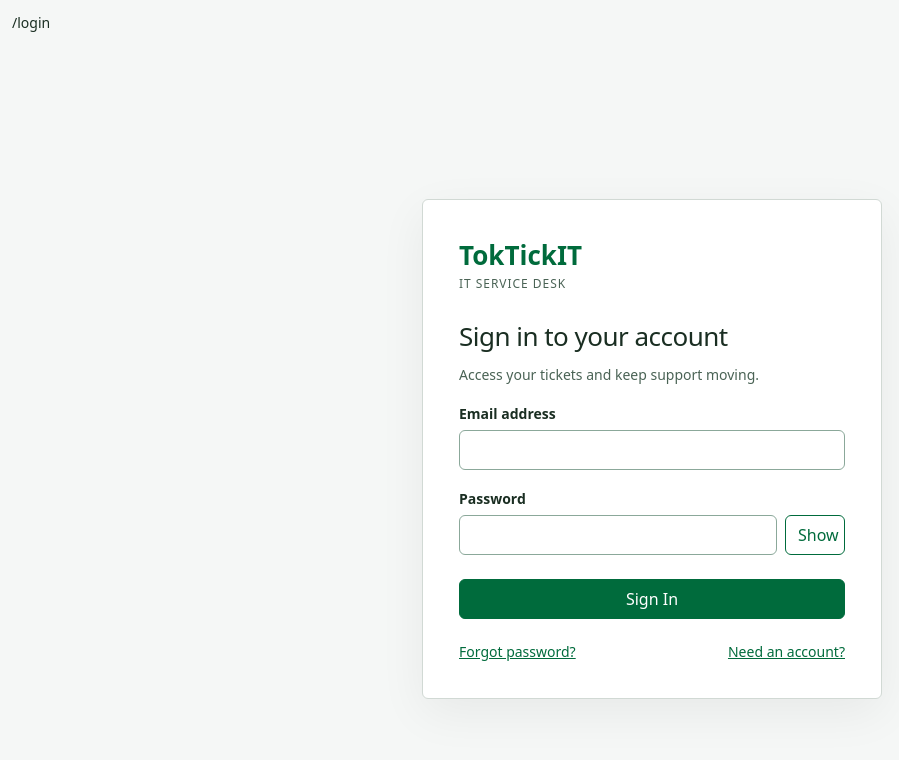
Lab 3 authentication navigation › shows connection failure and allows retry
This screenshot has width=899, height=760.
Check: the heading "Sign in to your account" is shown, box [459, 318, 728, 354]
Type "user@example.com" into the field labelled "Email address".
click(652, 450); type("user@example.com")  # box [459, 430, 845, 470]
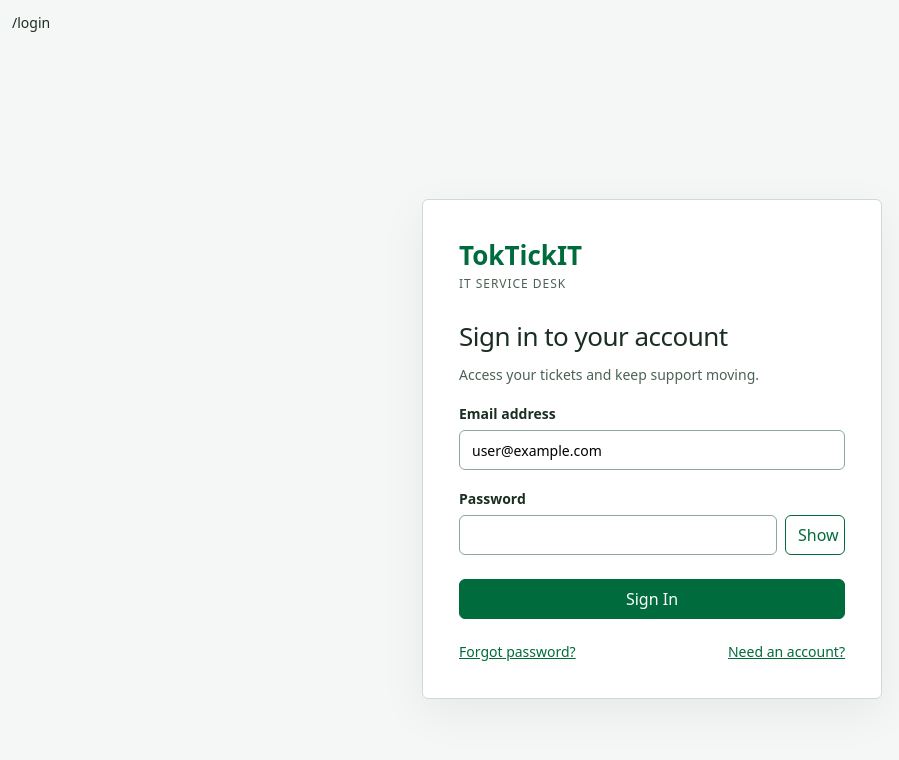
Type "Valid@123" into the password field labelled "Password".
click(618, 535); type("Valid@123")  # box [459, 515, 777, 555]
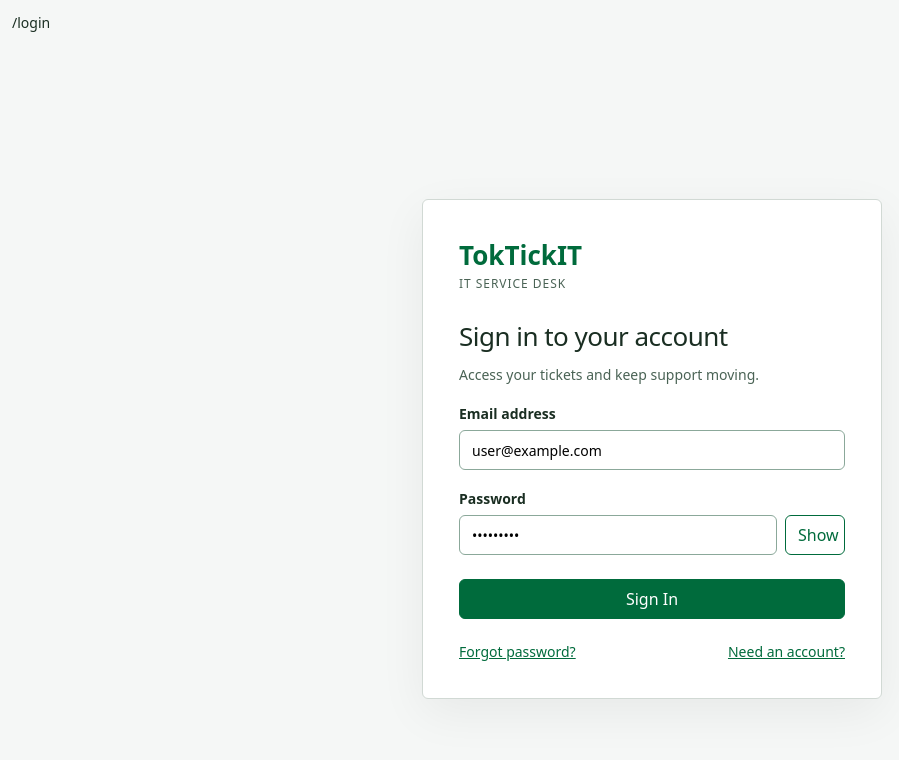
Click the button "Sign In".
click(652, 599)  # box [459, 579, 845, 619]
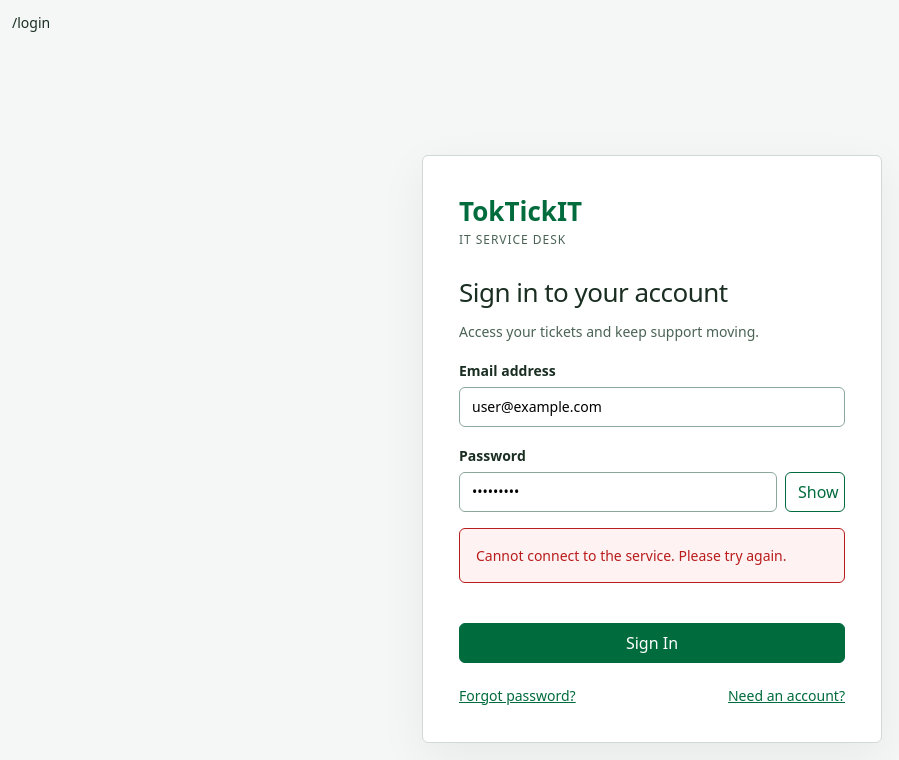
Check: the button "Sign In" is enabled, box [459, 623, 845, 663]
Check: the message shows "Cannot connect", box [476, 546, 786, 565]
